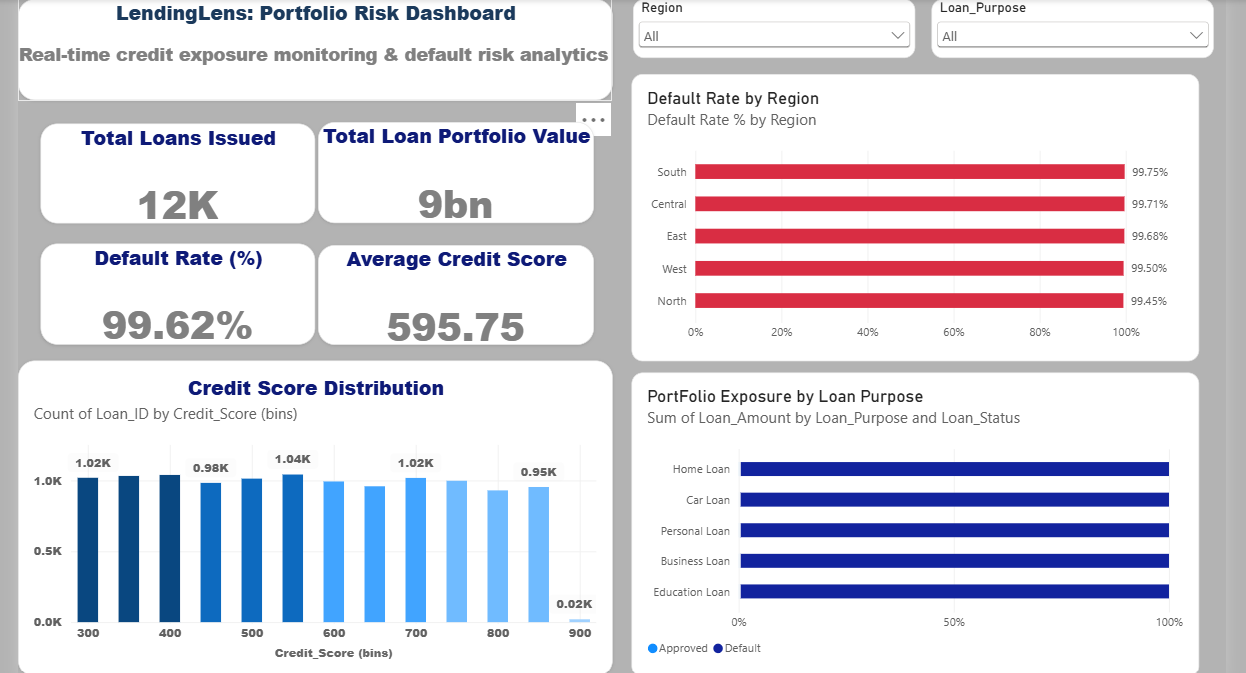

Layout of this report page (visuals, bound fields, positions):
{"tool":"powerbi","page":{"name":"Portfolio Health","canvas":[1280,720],"ordinal":0},"visuals":[{"type":"textbox","title":"LendingLens: Portfolio Risk Dashboard","box":[0,0,630.4,107.6],"z":0},{"type":"cardVisual","title":"Total Loans Issued","fields":{"Data":["CountNonNull(banking_project credit_risk_data.Loan_ID)"]},"box":[23.9,131.5,291.3,106.1],"z":1000},{"type":"cardVisual","title":"Total Loan Portfolio Value","fields":{"Data":["Sum(banking_project credit_risk_data.Loan_Amount)"]},"box":[318.2,130,292.8,107.6],"z":2000},{"type":"cardVisual","title":"Default Rate (%)","fields":{"Data":["banking_project credit_risk_data.Default Rate %"]},"box":[23.9,259.9,291.3,107.6],"z":3000},{"type":"cardVisual","title":"Average Credit Score","fields":{"Data":["banking_project credit_risk_data.Average Credit Score"]},"box":[318.2,261.4,292.8,106.1],"z":4000},{"type":"clusteredColumnChart","title":"Credit Score Distribution","fields":{"Category":["banking_project credit_risk_data.Credit_Score (bins)"],"Y":["CountNonNull(banking_project credit_risk_data.Loan_ID)"]},"box":[0,383.9,630.4,336.1],"z":5000},{"type":"clusteredBarChart","title":"Default Rate by Region","fields":{"Category":["banking_project credit_risk_data.Region"],"Y":["banking_project credit_risk_data.Default Rate %"]},"box":[649.9,80,602.3,304.5],"z":6000},{"type":"hundredPercentStackedBarChart","title":"PortFolio Exposure by Loan Purpose","fields":{"Category":["banking_project credit_risk_data.Loan_Purpose"],"Series":["banking_project credit_risk_data.Loan_Status"],"Y":["Sum(banking_project credit_risk_data.Loan_Amount)"]},"box":[649.9,396.4,602.3,323.3],"z":7000},{"type":"slicer","fields":{"Values":["banking_project credit_risk_data.Region"]},"box":[651.6,0,299.4,63],"z":8000},{"type":"slicer","fields":{"Values":["banking_project credit_risk_data.Loan_Purpose"]},"box":[968.1,0,299.4,63],"z":9000}]}

Visuals, with their boxes on the page's 1280x720 design canvas (x1, y1, x2, y2). These are canvas units, not pixel positions in the 1246x673 screenshot, which may show the page scaled, cropped or inside an application window:
"LendingLens: Portfolio Risk Dashboard" textbox: x1=0 y1=0 x2=630 y2=108
"Total Loans Issued" cardVisual: x1=24 y1=132 x2=315 y2=238
"Total Loan Portfolio Value" cardVisual: x1=318 y1=130 x2=611 y2=238
"Default Rate (%)" cardVisual: x1=24 y1=260 x2=315 y2=368
"Average Credit Score" cardVisual: x1=318 y1=261 x2=611 y2=368
"Credit Score Distribution" clusteredColumnChart: x1=0 y1=384 x2=630 y2=720
"Default Rate by Region" clusteredBarChart: x1=650 y1=80 x2=1252 y2=384
"PortFolio Exposure by Loan Purpose" hundredPercentStackedBarChart: x1=650 y1=396 x2=1252 y2=720
slicer - banking_project credit_risk_data.Region: x1=652 y1=0 x2=951 y2=63
slicer - banking_project credit_risk_data.Loan_Purpose: x1=968 y1=0 x2=1268 y2=63
